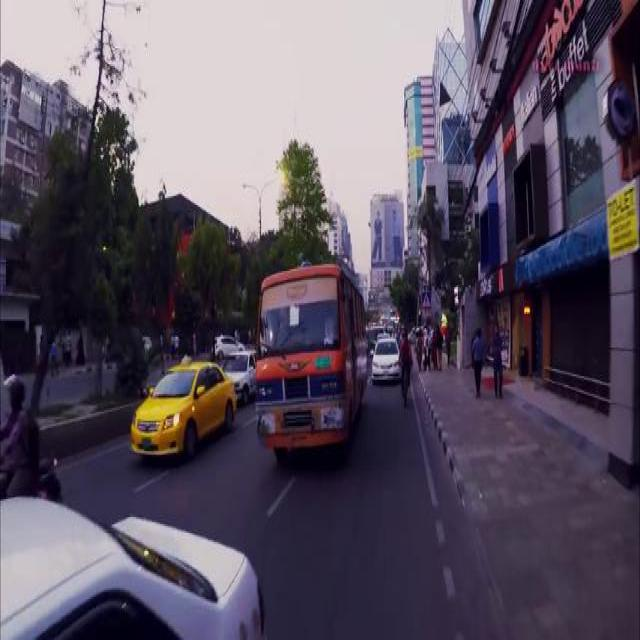bicycle: (398, 358, 408, 406)
bus: (252, 263, 366, 448)
car: (0, 492, 266, 635), (221, 348, 253, 403), (370, 334, 398, 374), (211, 335, 243, 355)
motorbike: (0, 448, 61, 509)
taxi: (129, 357, 235, 454)
